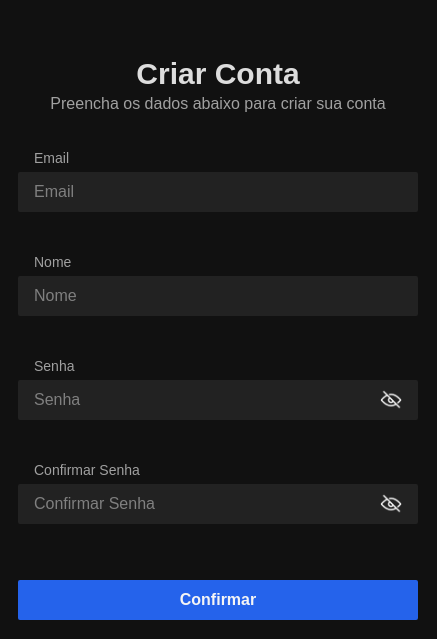
Test: Create User Component › Should show a notification with an error
Type "user01@email.com" into the field with placeholder "Email".
click(218, 192); type("user01@email.com")  # box [18,172,418,212]
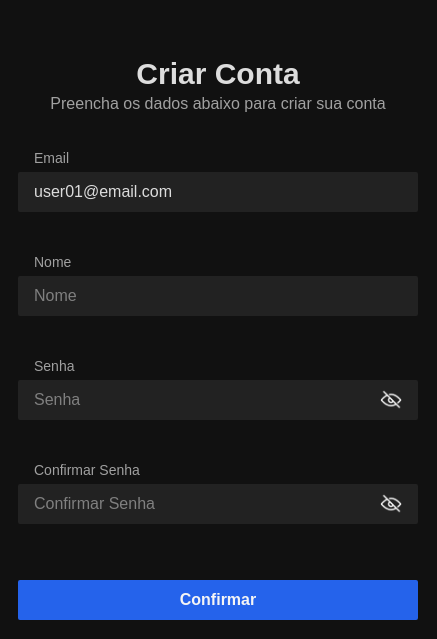
Type "user01" into the field with placeholder "Nome".
click(218, 296); type("user01")  # box [18,276,418,316]
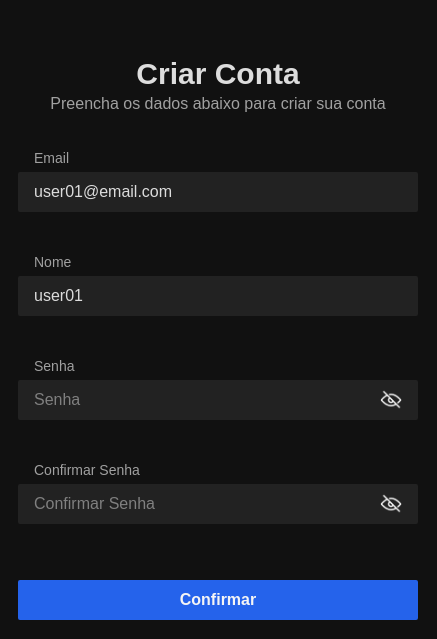
Type "User1234" into the password field with placeholder "Senha".
click(207, 400); type("User1234")  # box [34,388,380,412]
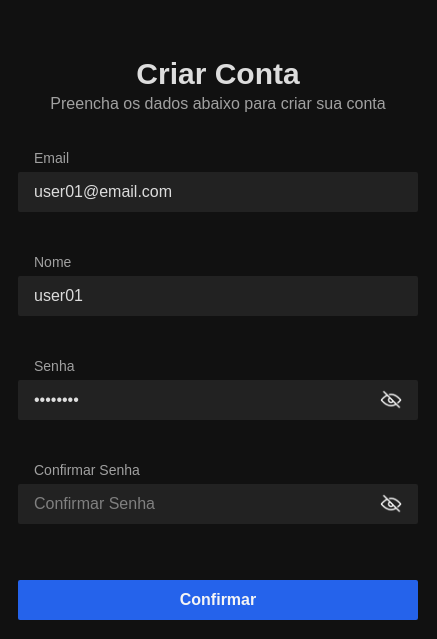
Type "User1234" into the password field with placeholder "Confirmar Senha".
click(207, 504); type("User1234")  # box [34,492,380,516]
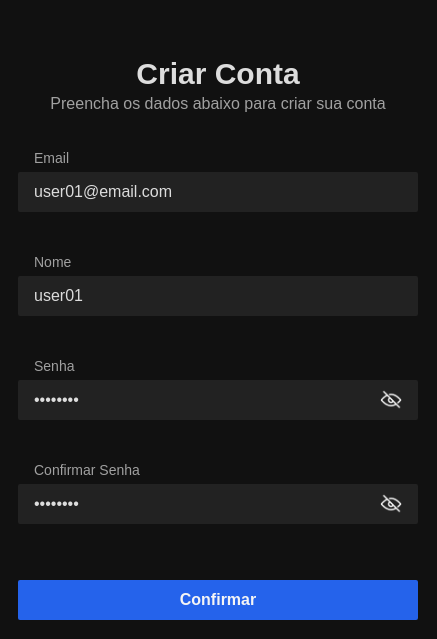
Click the button "Confirmar".
click(218, 600)  # box [18,580,418,620]
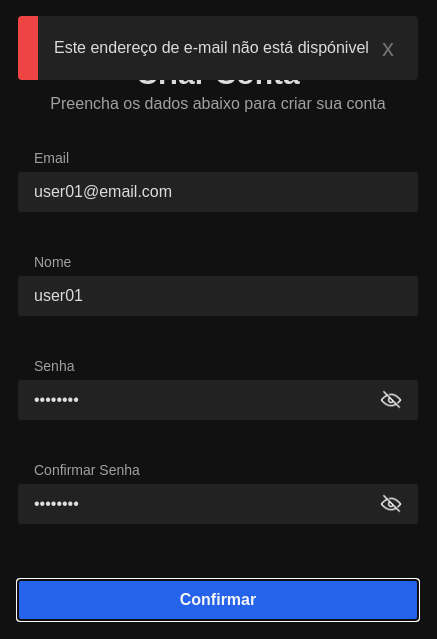
Check: the text "Este endereço de e-mail não está dispónivel" is shown, box [54,36,369,60]
